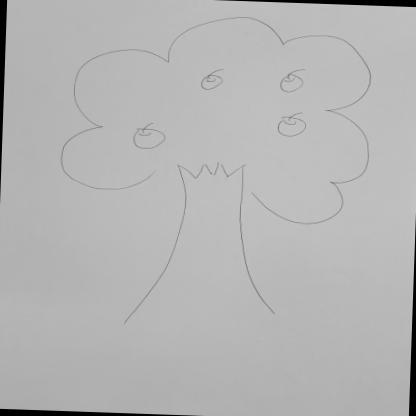apple: (130, 124, 167, 150), (276, 112, 312, 138), (277, 72, 306, 94), (200, 74, 228, 92)
branch_sharp: (172, 155, 256, 187)
crown_cloud: (56, 10, 380, 227)
trunk_reflex: (154, 199, 262, 285)
